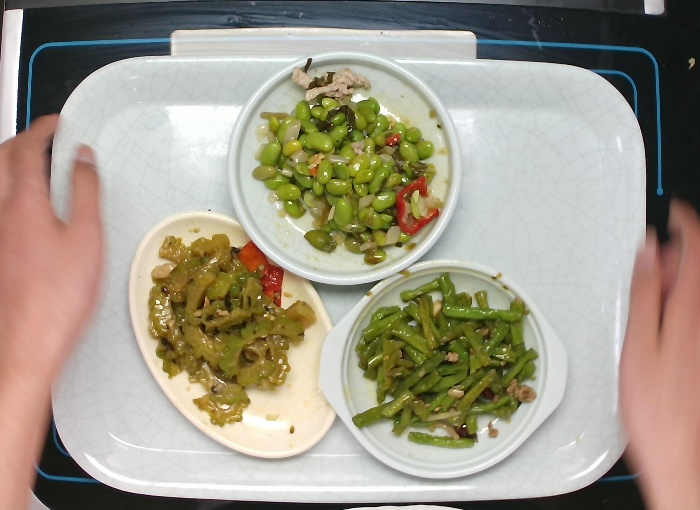JYsf-Shuang_Er_Pan: (323, 261, 562, 477)
JYsf-Tuo_Yuan_Wan: (120, 221, 335, 466)
JYsf-Xiao_Yuan_Pan: (229, 53, 460, 285)
